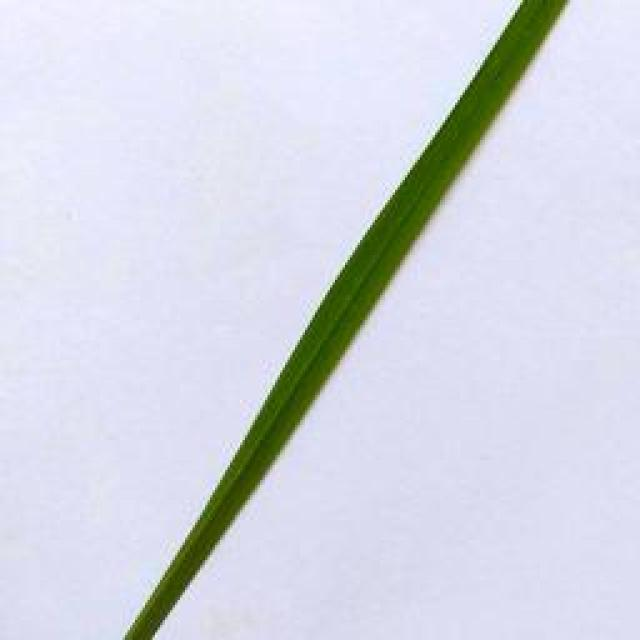Healthy: (122, 0, 568, 640)
